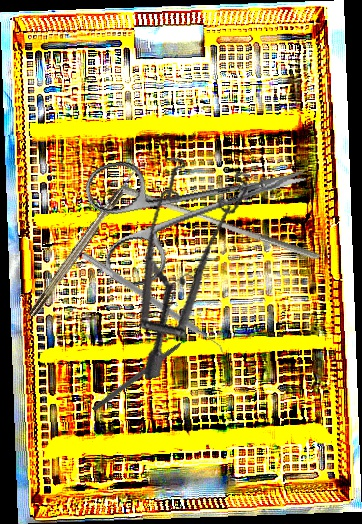Hook Surgical: (26, 162, 144, 319), (91, 332, 196, 413)
Iris Scissors: (81, 118, 322, 293)
Pusher: (119, 184, 323, 262)
Spatula Surgical: (76, 251, 230, 358)
Speculum: (101, 142, 288, 380)
